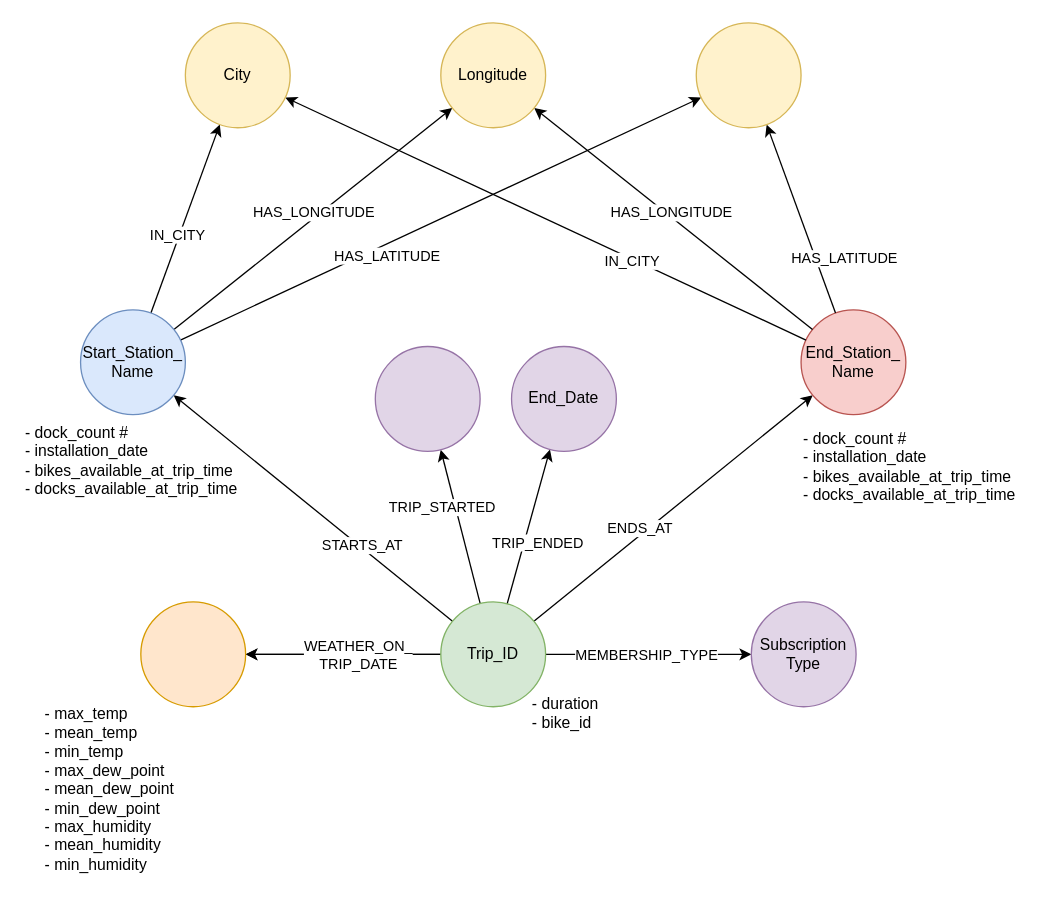
The diagram is 1048 pixels wide and 897 high, and some of its shapes have lost their labels. Each missing label, with the centre of its shape:
"Latitude" belongs at (748,75).
"Start_Date" belongs at (427,398).
"Weather Conditions" belongs at (193,654).
